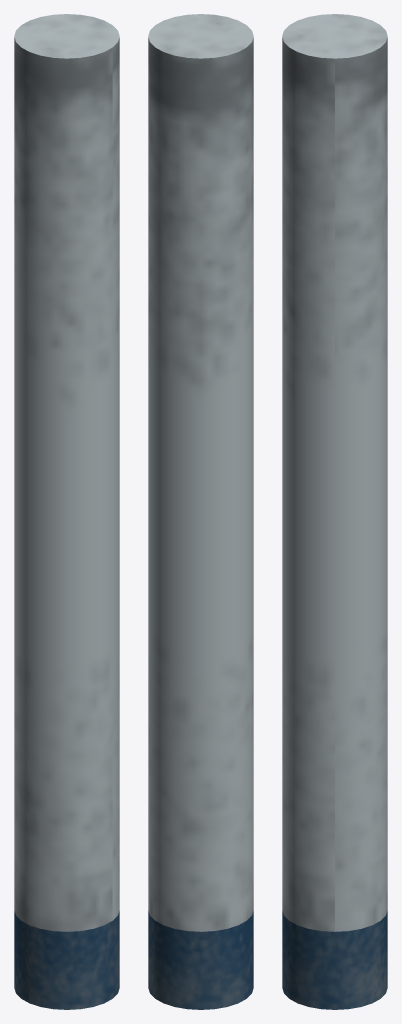
The model's file is gas_station Pillar.fbx.
3 views of the same model, side by side, from view 1: azimuth 30°, elevation 25°; view 2: azimuth 210°, elevation 25°; view 3: azimuth 330°, elevation 25° (orthographic).
Visible parts, largest first — view 1: pasted__Pillar3; view 2: pasted__Pillar3; view 3: pasted__Pillar3.
Boxes of the visible parts, box(x1,y1,x2,y2) form: pasted__Pillar3: box(14, 14, 119, 1009); pasted__Pillar3: box(148, 14, 253, 1009); pasted__Pillar3: box(282, 14, 387, 1009).
Bounding box in the file's own units: 2.3 × 22.89 × 2.3.
